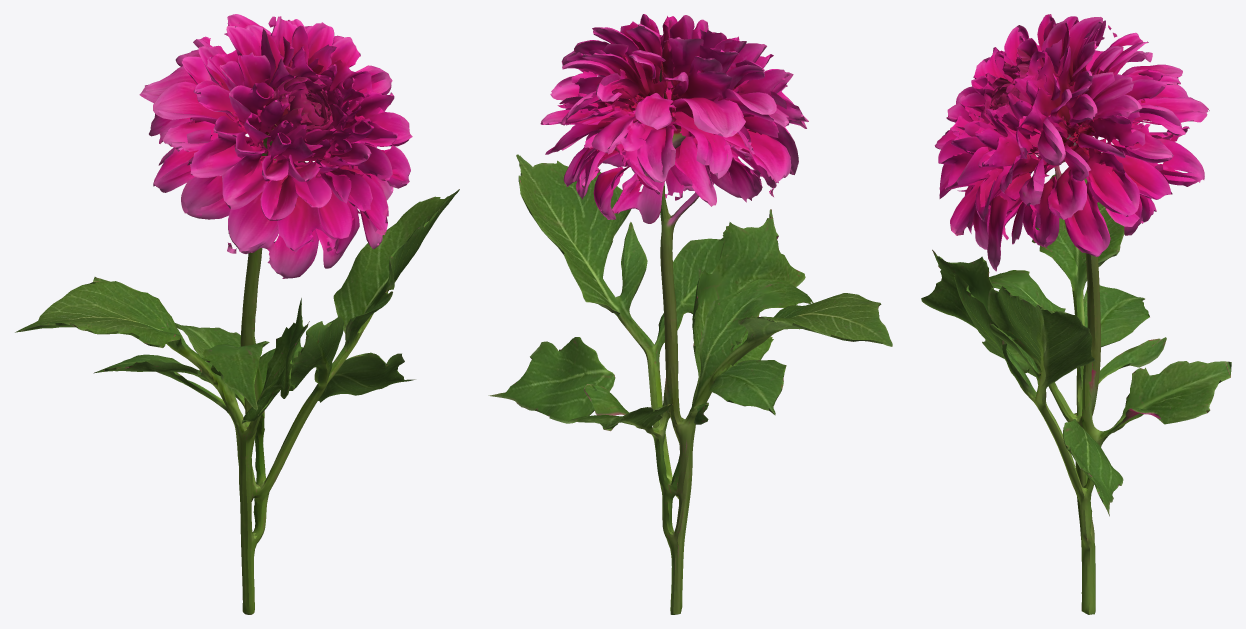
The model's file is Meshy_AI_me_puedes_generar_la__0927013021_texture.fbx.
The picture shows the model from 3 angles, left to right: view 1: azimuth 30°, elevation 25°; view 2: azimuth 150°, elevation 25°; view 3: azimuth 270°, elevation 25°; orthographic projection.
Parts seen in each view (by area): view 1: Mesh0; view 2: Mesh0; view 3: Mesh0.
Boxes of the visible parts, bbox=[...] form: Mesh0: bbox=[15, 14, 459, 614]; Mesh0: bbox=[488, 14, 892, 614]; Mesh0: bbox=[921, 14, 1231, 614].
Size of the model in its own units: 138 by 190 by 90.1.
Materials: 1 (1 with a texture image).
